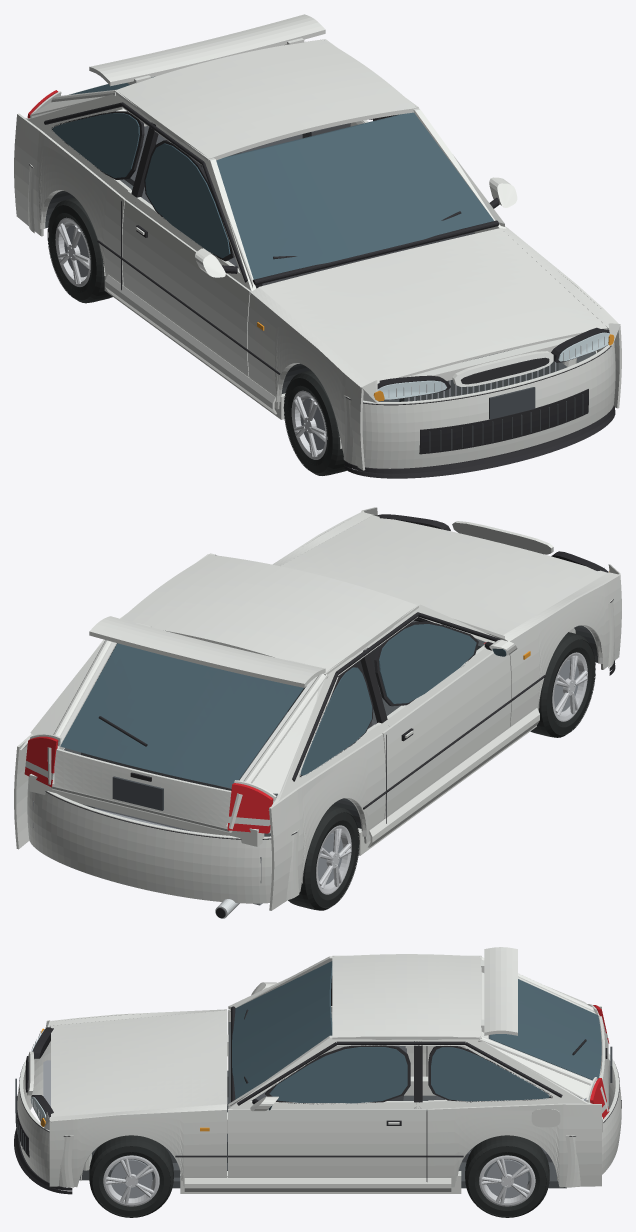
The model's file is ek_hatch_1997_modular.glb.
3 views of the same model, one above another, from view 1: azimuth 30°, elevation 25°; view 2: azimuth 150°, elevation 25°; view 3: azimuth 270°, elevation 25° (orthographic). The views are drawn at different scales.
Visible parts, largest first — view 1: shell_base__paint, hood_stock__paint, windshield__glass, bumper_front_stock__paint, fender_fr_stock__paint, spoiler_rear_stock__paint, window_front_r__glass, bumper_front_stock__trim, window_quarter_r__glass, sideskirt_r_stock__paint, wheel_fr__tire, wheel_rr__tire (+16 smaller); view 2: shell_base__paint, hatch_glass__glass, hood_stock__paint, bumper_rear_stock__paint, fender_fr_stock__paint, hatch_stock__paint, spoiler_rear_stock__paint, window_front_r__glass, window_quarter_r__glass, sideskirt_r_stock__paint, wheel_rr__tire, wheel_fr__tire (+11 smaller); view 3: shell_base__paint, hood_stock__paint, fender_fl_stock__paint, windshield__glass, hatch_glass__glass, window_front_l__glass, window_quarter_l__glass, sideskirt_l_stock__paint, wheel_fl__tire, wheel_rl__tire, spoiler_rear_stock__paint, bumper_front_stock__paint (+15 smaller).
Part boxes in pixels (bbox=[...]): shell_base__paint: bbox=[14, 39, 576, 419]; hood_stock__paint: bbox=[259, 228, 607, 383]; windshield__glass: bbox=[216, 112, 493, 279]; bumper_front_stock__paint: bbox=[343, 342, 615, 468]; fender_fr_stock__paint: bbox=[247, 287, 378, 470]; spoiler_rear_stock__paint: bbox=[89, 14, 325, 86]; window_front_r__glass: bbox=[145, 143, 230, 257]; bumper_front_stock__trim: bbox=[345, 345, 611, 454]; window_quarter_r__glass: bbox=[52, 113, 139, 177]; sideskirt_r_stock__paint: bbox=[105, 274, 276, 414]; wheel_fr__tire: bbox=[283, 370, 351, 475]; wheel_rr__tire: bbox=[47, 197, 112, 303]; shell_base__paint: bbox=[14, 553, 575, 910]; hatch_glass__glass: bbox=[60, 643, 303, 788]; hood_stock__paint: bbox=[280, 515, 606, 635]; bumper_rear_stock__paint: bbox=[27, 776, 299, 903]; fender_fr_stock__paint: bbox=[503, 564, 621, 727]; hatch_stock__paint: bbox=[54, 642, 317, 827]; spoiler_rear_stock__paint: bbox=[89, 616, 325, 687]; window_front_r__glass: bbox=[379, 624, 476, 703]; window_quarter_r__glass: bbox=[300, 667, 372, 775]; sideskirt_r_stock__paint: bbox=[368, 708, 539, 847]; wheel_rr__tire: bbox=[288, 805, 359, 910]; wheel_fr__tire: bbox=[530, 632, 595, 737]; shell_base__paint: bbox=[83, 954, 608, 1193]; hood_stock__paint: bbox=[51, 1010, 227, 1116]; fender_fl_stock__paint: bbox=[44, 1104, 226, 1187]; windshield__glass: bbox=[232, 961, 332, 1099]; hatch_glass__glass: bbox=[489, 979, 601, 1080]; window_front_l__glass: bbox=[269, 1047, 407, 1103]; window_quarter_l__glass: bbox=[431, 1047, 549, 1101]; sideskirt_l_stock__paint: bbox=[184, 1177, 451, 1191]; wheel_fl__tire: bbox=[89, 1135, 173, 1217]; wheel_rl__tire: bbox=[465, 1135, 549, 1217]; spoiler_rear_stock__paint: bbox=[481, 947, 517, 1035]; bumper_front_stock__paint: bbox=[17, 1041, 73, 1187].
Bounding box in the file's own units: 2 × 1.38 × 4.24.
